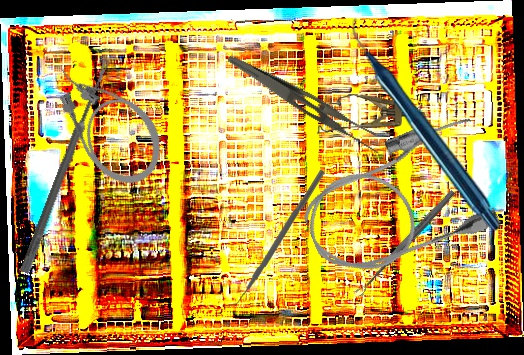Cannula: (288, 108, 511, 291), (41, 43, 177, 199)
Chopper: (221, 168, 326, 309)
Dressing Forceps: (218, 54, 389, 156)
Handpiece: (352, 17, 501, 231)
Speculum: (317, 94, 425, 134)
Surgical Spoon: (19, 58, 112, 275), (354, 188, 457, 298)
